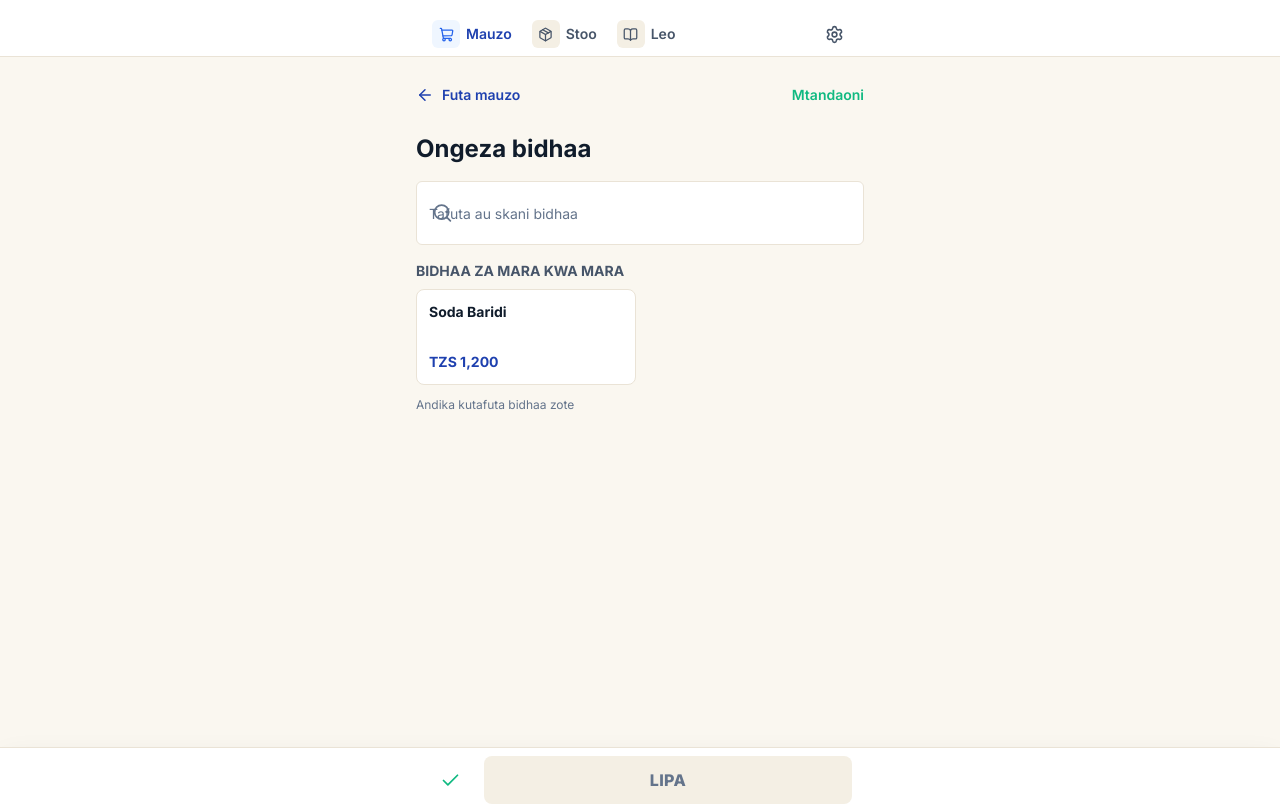
Test: USIKU-3: a garbage stored value falls back to Mchana › boots Mchana with the switch off when the stored theme is not a theme
This screenshot has width=1280, height=812.
Expected: the heading "Ongeza bidhaa" is shown, [416,134,591,163]
Click the button named "Mipangilio" at coordinates (834, 34), box [812,12,856,56]
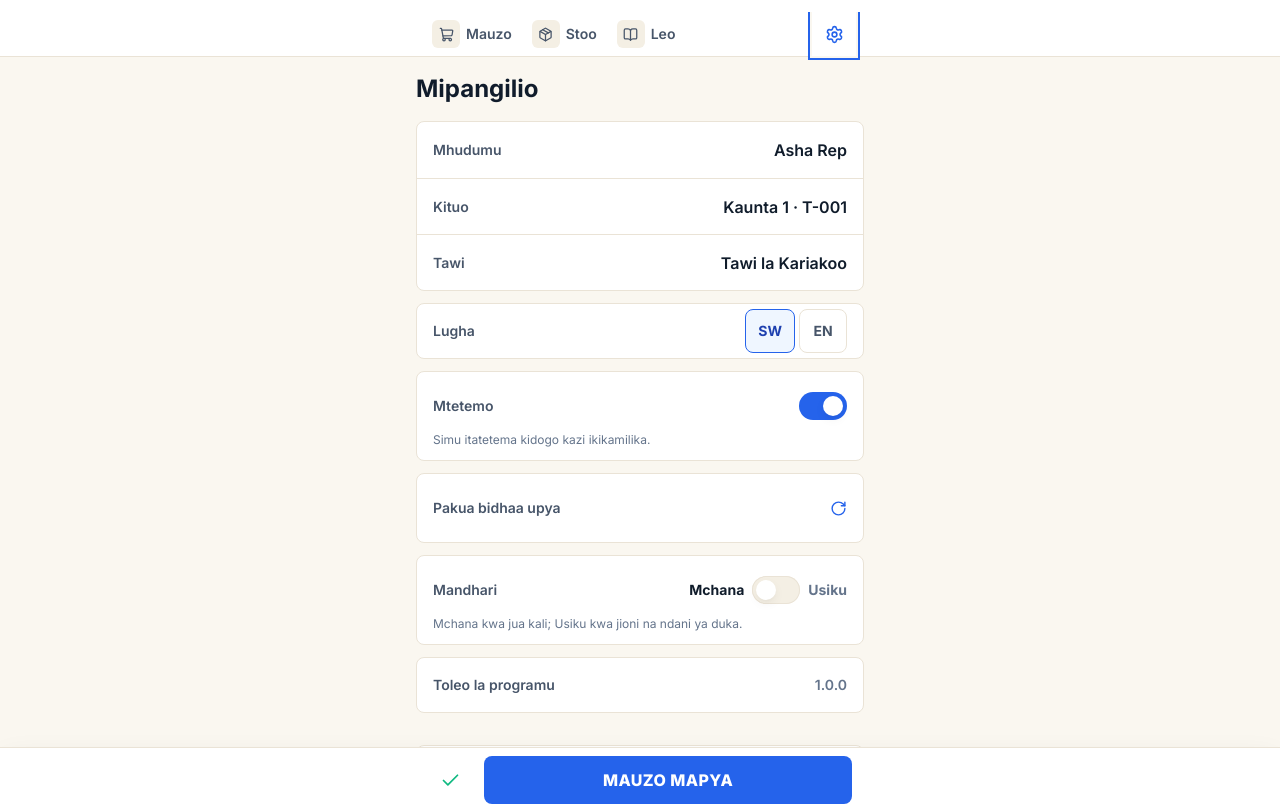
Expected: the heading "Mipangilio" is shown, [416,74,538,103]
